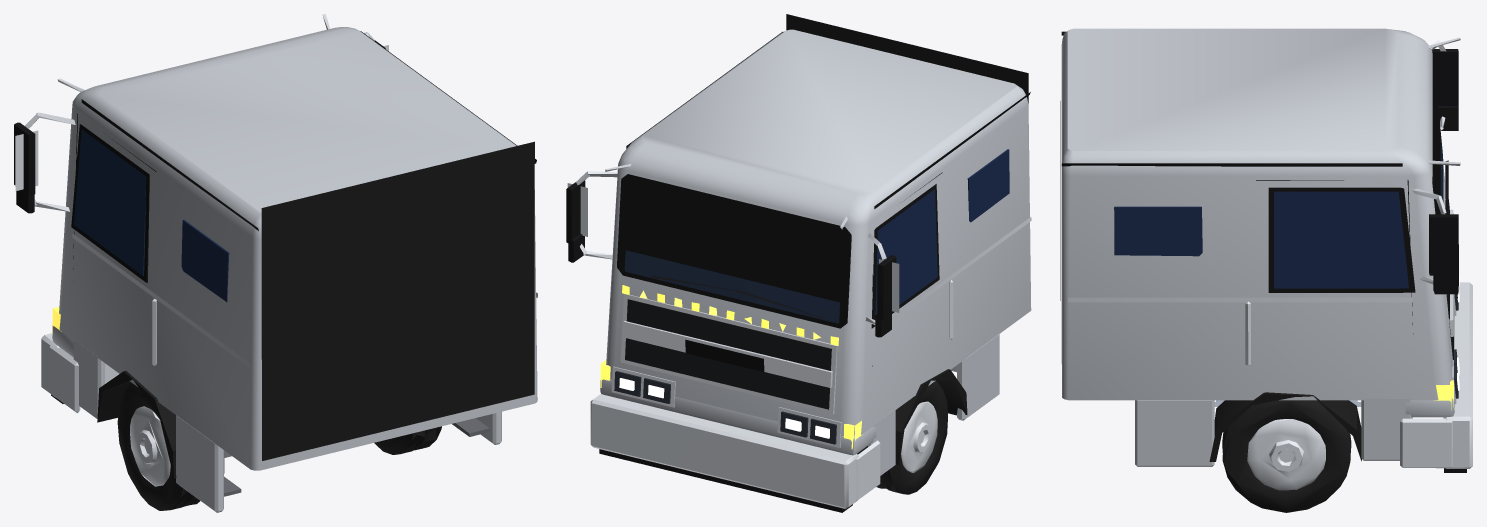
The model's file is cab_flat_wide_lod1.glb.
3 renders of one model, left to right at view 1: azimuth 30°, elevation 25°; view 2: azimuth 150°, elevation 25°; view 3: azimuth 270°, elevation 25°, orthographic. The views are drawn at different scales.
Parts seen in each view (by area): view 1: lod1_paint_white_panel, lod1_plastic_trim, lod1_glass, lod1_chrome, lod1_rubber_tire, lod1_plastic_black, lod1_diamond; view 2: lod1_paint_white_panel, lod1_chrome, lod1_plastic_black, lod1_vent_slots, lod1_glass, lod1_plastic_trim, lod1_glass_wind, lod1_rubber_tire, lod1_glass_lens, lod1_lamp_amber, lod1_lamp_white; view 3: lod1_paint_white_panel, lod1_glass, lod1_chrome, lod1_plastic_black, lod1_rubber_tire, lod1_plastic_trim.
Boxes of the visible parts, <box> form: lod1_paint_white_panel: <box>52,27,537,512</box>; lod1_plastic_trim: <box>97,141,534,478</box>; lod1_glass: <box>74,129,229,301</box>; lod1_chrome: <box>15,14,537,486</box>; lod1_rubber_tire: <box>117,383,441,510</box>; lod1_plastic_black: <box>14,31,536,403</box>; lod1_diamond: <box>224,418,489,496</box>; lod1_paint_white_panel: <box>600,29,1031,475</box>; lod1_chrome: <box>567,164,1031,508</box>; lod1_plastic_black: <box>566,31,1030,512</box>; lod1_vent_slots: <box>625,299,831,409</box>; lod1_glass: <box>875,149,1009,314</box>; lod1_plastic_trim: <box>786,14,1028,464</box>; lod1_glass_wind: <box>624,250,839,323</box>; lod1_rubber_tire: <box>876,381,947,494</box>; lod1_glass_lens: <box>614,371,836,444</box>; lod1_lamp_amber: <box>600,285,862,449</box>; lod1_lamp_white: <box>619,378,829,438</box>; lod1_paint_white_panel: <box>1061,28,1454,466</box>; lod1_glass: <box>1114,191,1408,288</box>; lod1_chrome: <box>1068,37,1472,490</box>; lod1_plastic_black: <box>1061,31,1466,472</box>; lod1_rubber_tire: <box>1222,400,1351,512</box>; lod1_plastic_trim: <box>1060,101,1361,461</box>.
Size of the model in its own units: 3.24 by 3.2 by 3.21.
Materials: 15 (6 with a texture image).
